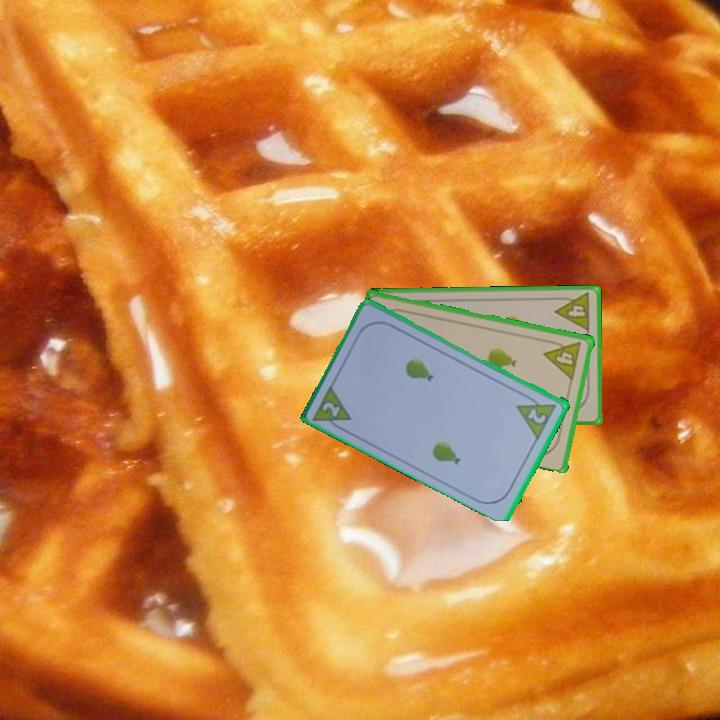2p: (310, 380, 355, 435), (513, 390, 560, 441)
4p: (541, 336, 584, 382), (552, 290, 593, 334)
